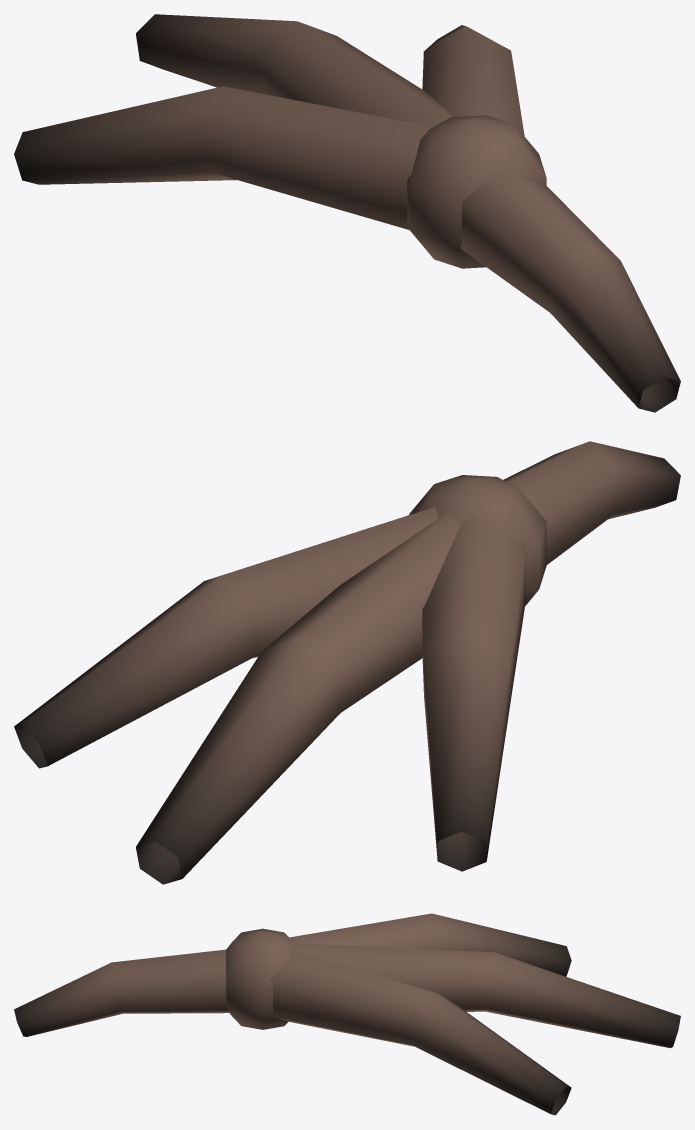
Rendered from Robin_Body_Limb1F.fbx.
3 renders of one model, top to bottom at view 1: azimuth 30°, elevation 25°; view 2: azimuth 150°, elevation 25°; view 3: azimuth 270°, elevation 25°, orthographic. The views are drawn at different scales.
Parts seen in each view (by area): view 1: Robin_Body_Limb1F; view 2: Robin_Body_Limb1F; view 3: Robin_Body_Limb1F.
Boxes of the visible parts, x1=… form: Robin_Body_Limb1F: x1=14, y1=14, x2=680, y2=412; Robin_Body_Limb1F: x1=14, y1=441, x2=680, y2=884; Robin_Body_Limb1F: x1=14, y1=913, x2=680, y2=1115.
Bounding box in the file's own units: 0.4119 × 0.1472 × 0.7692.
